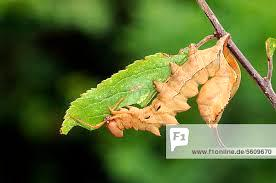Lobster Moth: (110, 37, 246, 144)
